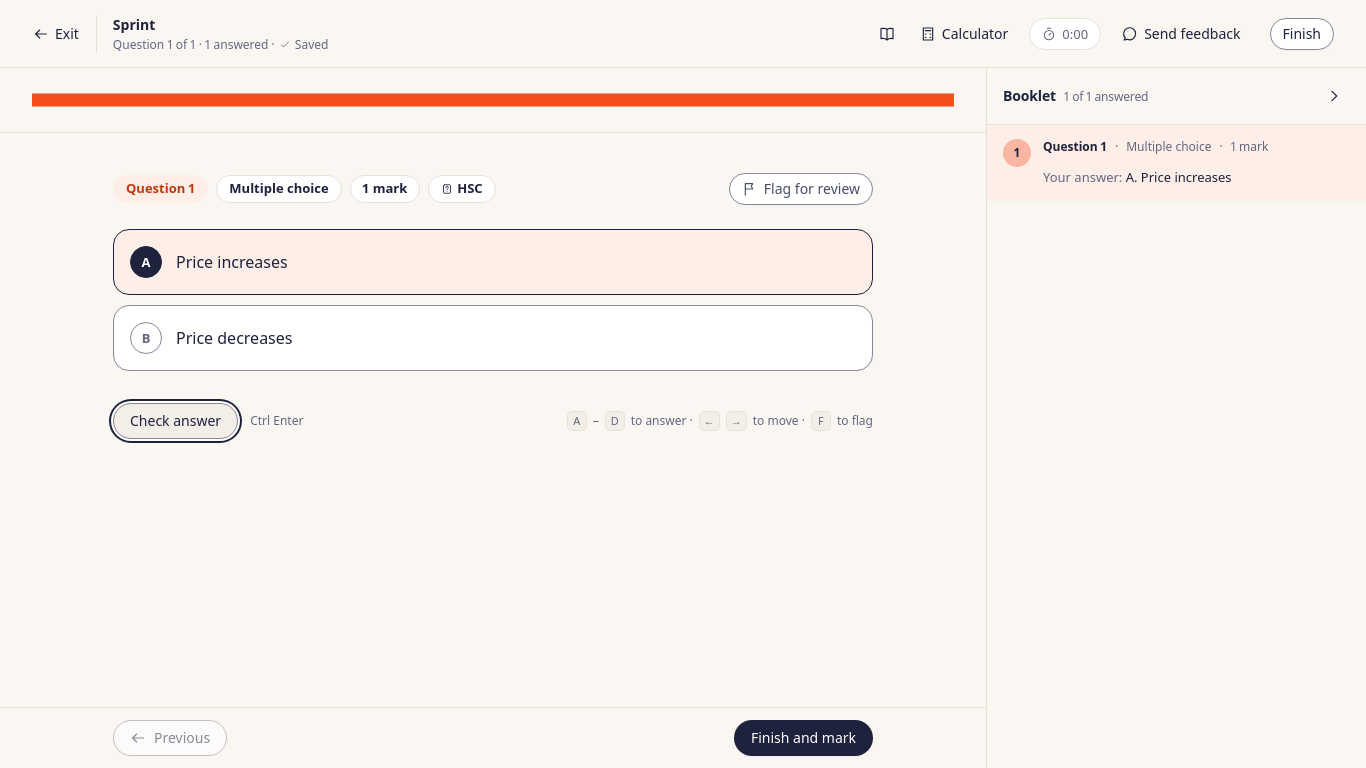
Test: rolls back a flag when saving fails
Click the button "Flag for review". click: (801, 189)
box: left=729, top=173, right=873, bottom=205
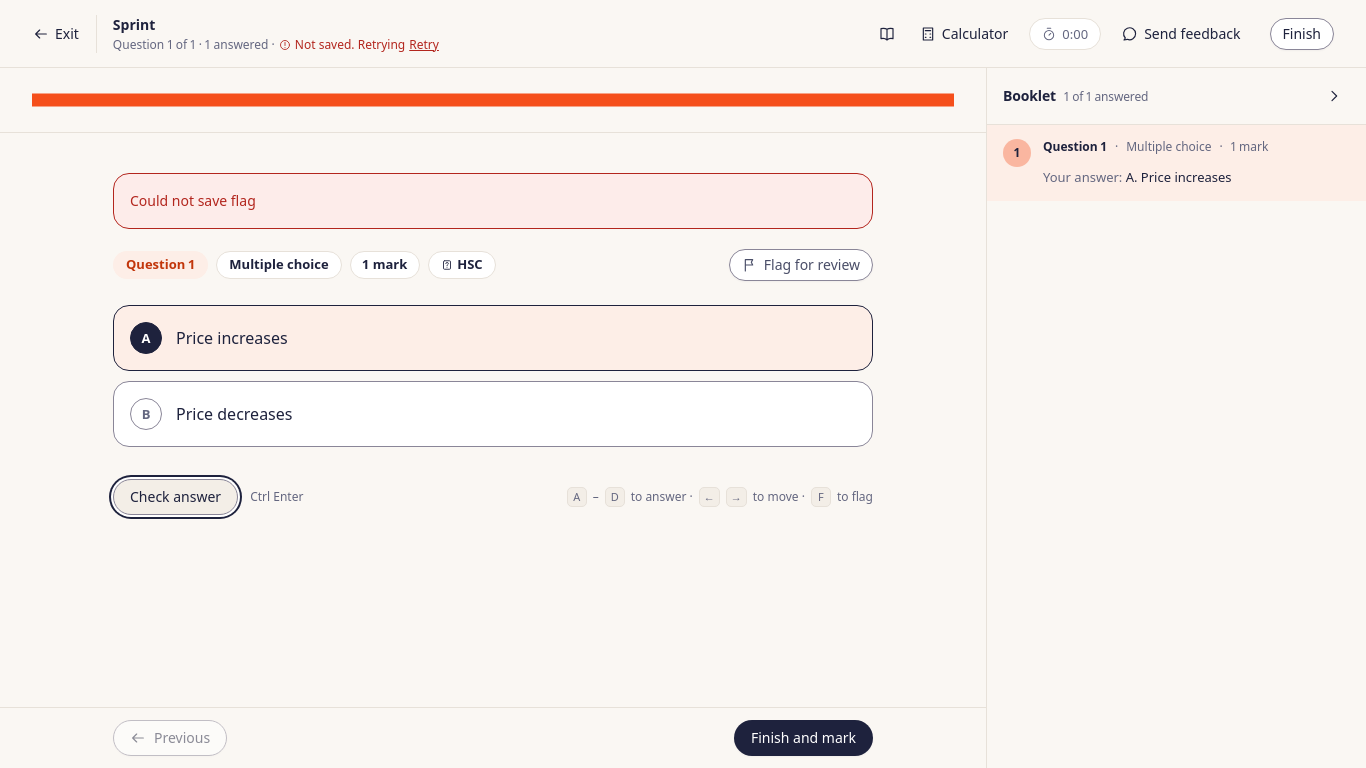
Check: the message "Could not save flag" is shown, box left=113, top=173, right=873, bottom=229
